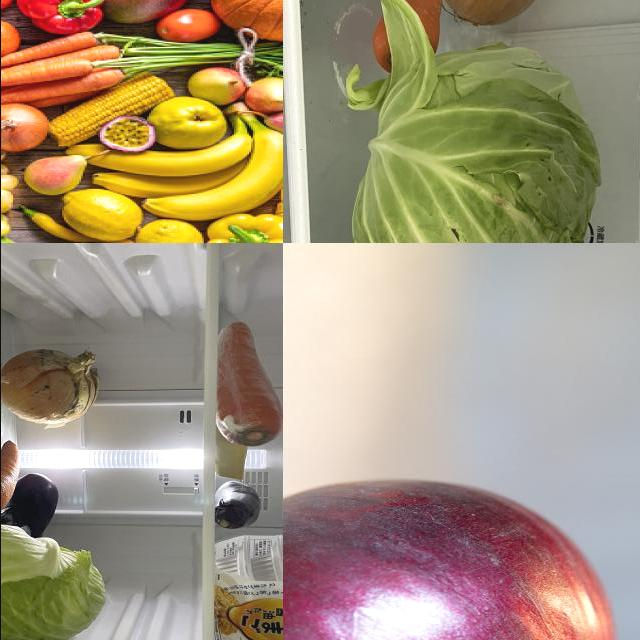bell_pepper: (19, 1, 112, 35), (202, 215, 283, 244)
cabbage: (328, 37, 604, 244), (1, 523, 105, 640)
carrot: (221, 323, 283, 448), (367, 1, 460, 77), (1, 439, 22, 520)
eggplant: (6, 475, 61, 540), (209, 484, 264, 533)
onion: (283, 479, 633, 640), (1, 345, 104, 427), (439, 1, 554, 29), (1, 103, 51, 151)
tomato: (157, 10, 217, 45)
